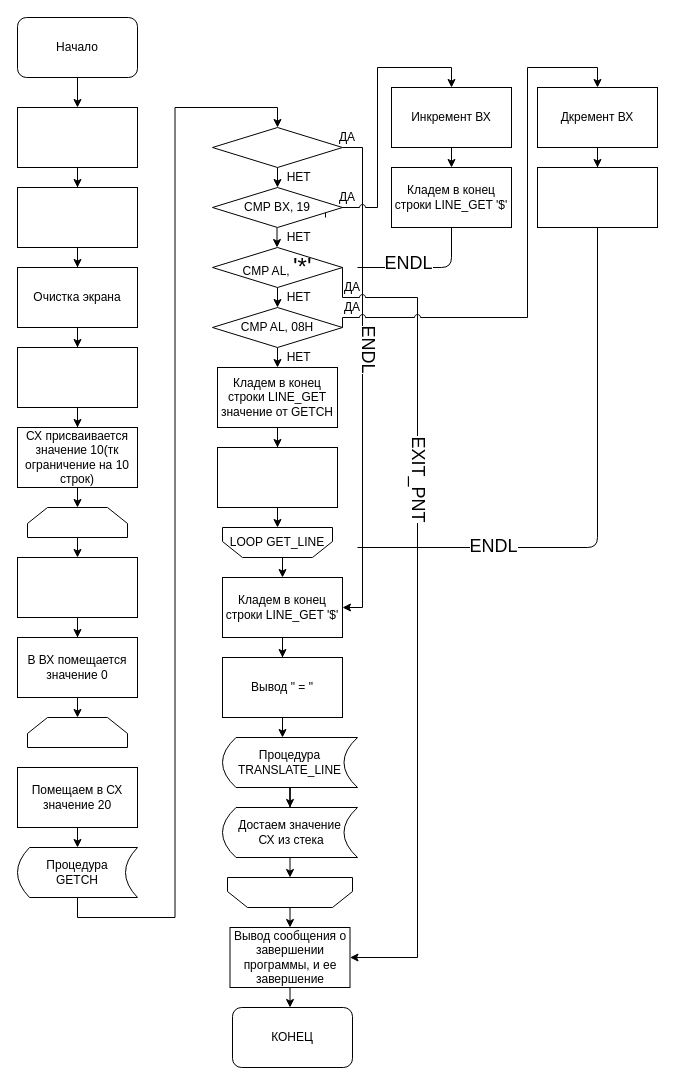
This 675x1085 diagram has some shape labels left out. The shapes that lost their labels are listed below. From the top down, each one's centre as x and y in pixels, then its label:
At point (77, 137): "Определение Сегментов".
At point (277, 147): "CMP AL, '$'".
At point (77, 217): "Запись адреса сегмента данных в регистр DS".
At point (597, 197): "Инкремент СХ".
At point (77, 377): "В DS заносятся данные сегмента DATA".
At point (277, 477): "Инкремент BX".
At point (77, 522): "GET_LINES".
At point (77, 587): "Сохранение занчений СХ в стеке".
At point (77, 732): "GET_LINE".
At point (289, 892): "LOOP GET_LINES".
